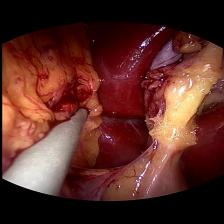Irrigator: (46, 107, 88, 141)
